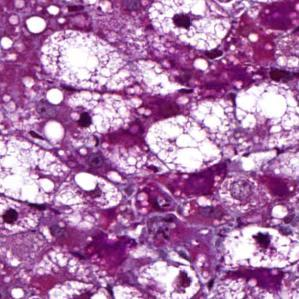ballooning: (232, 77, 297, 168), (40, 31, 127, 92), (144, 113, 222, 176), (146, 2, 238, 54), (223, 223, 294, 274)
